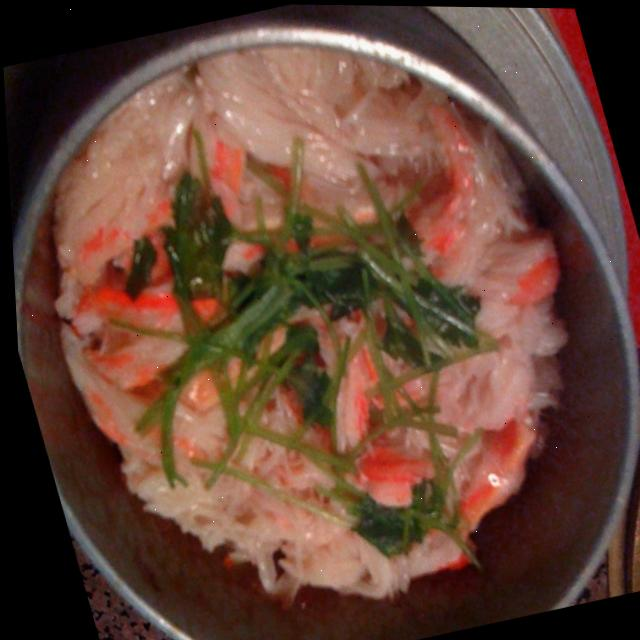汤锅炖物: (3, 76, 640, 640)
